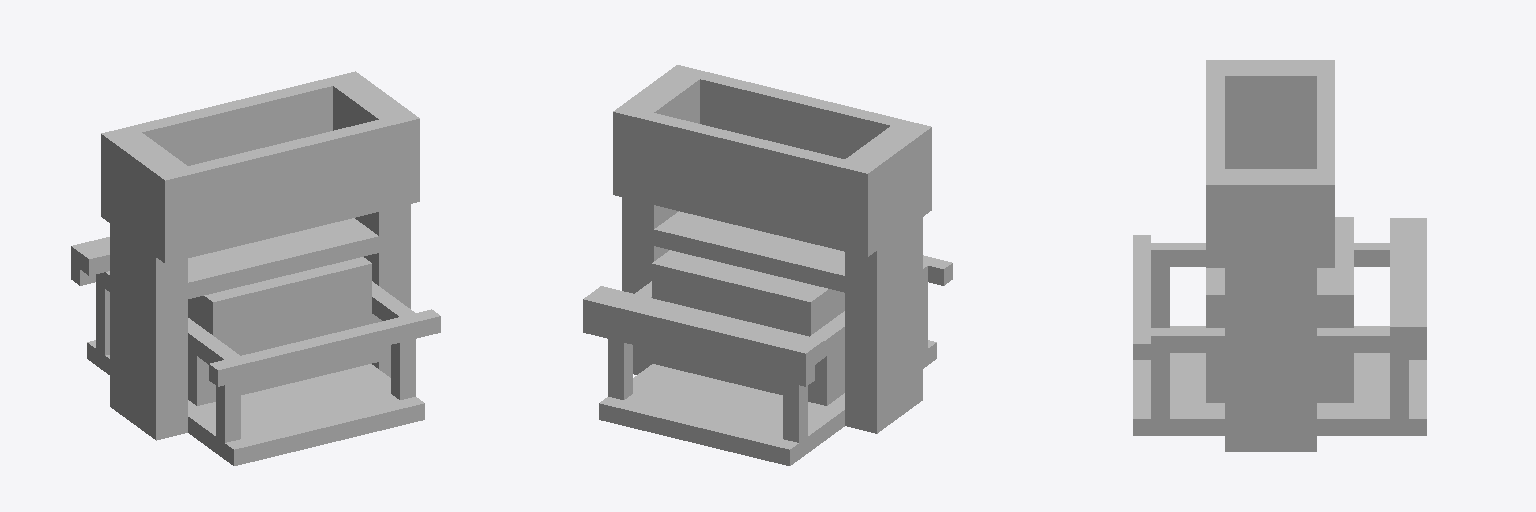
File: clothing_loom_active.obj
3 views of the same model, side by side, from view 1: azimuth 30°, elevation 25°; view 2: azimuth 150°, elevation 25°; view 3: azimuth 270°, elevation 25° (orthographic).
Visible parts, largest first — view 1: loom_node_0_0_0.006_loom, active.007_node_0_0_0.007_active.008; view 2: loom_node_0_0_0.006_loom, active.007_node_0_0_0.007_active.008; view 3: loom_node_0_0_0.006_loom, active.007_node_0_0_0.007_active.008.
Part boxes in pixels (left/top/right/bottom): loom_node_0_0_0.006_loom: left=87, top=78, right=440, bottom=465; active.007_node_0_0_0.007_active.008: left=71, top=71, right=419, bottom=285; loom_node_0_0_0.006_loom: left=599, top=71, right=952, bottom=465; active.007_node_0_0_0.007_active.008: left=583, top=65, right=931, bottom=386; loom_node_0_0_0.006_loom: left=1133, top=60, right=1426, bottom=451; active.007_node_0_0_0.007_active.008: left=1206, top=60, right=1426, bottom=359.
Size of the model in its own units: 1 by 1 by 1.